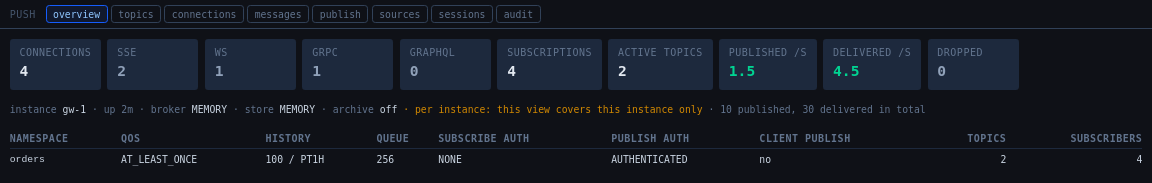
Scenario: PushPanel › says how to turn the archive on when the overview reports it off
This screenshot has width=1152, height=183.
What coordinates should you click on to do the following:
click the button "messages"
I would click on:
 (278, 14)
Its box is x1=247 y1=5 x2=309 y2=23.
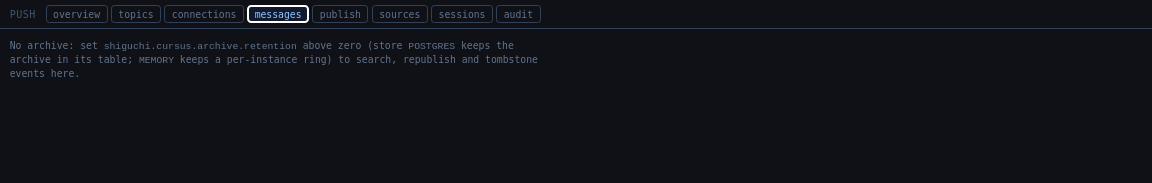
Expected: the text "shiguchi.cursus.archive.retention" is shown, x1=104 y1=41 x2=297 y2=52
